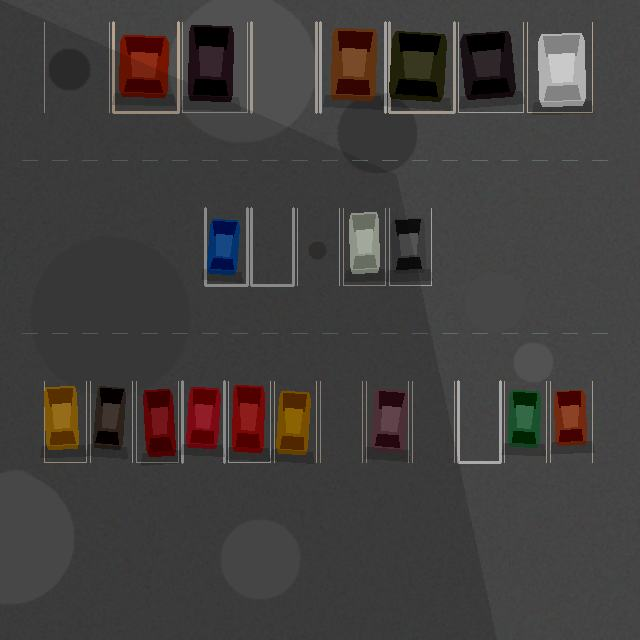space-empty: (44, 22, 109, 112), (251, 22, 316, 112), (320, 381, 362, 462), (412, 381, 454, 462), (458, 381, 500, 462), (251, 208, 293, 285), (297, 208, 339, 285)
space-occupied: (113, 22, 178, 112), (182, 22, 247, 112), (320, 22, 385, 112), (389, 22, 454, 112), (458, 22, 523, 112), (527, 22, 592, 112), (44, 381, 86, 462), (90, 381, 132, 462), (136, 381, 178, 462), (182, 381, 224, 462), (228, 381, 270, 462), (274, 381, 316, 462), (366, 381, 408, 462), (504, 381, 546, 462), (550, 381, 592, 462), (205, 208, 247, 285), (343, 208, 385, 285), (389, 208, 431, 285)
